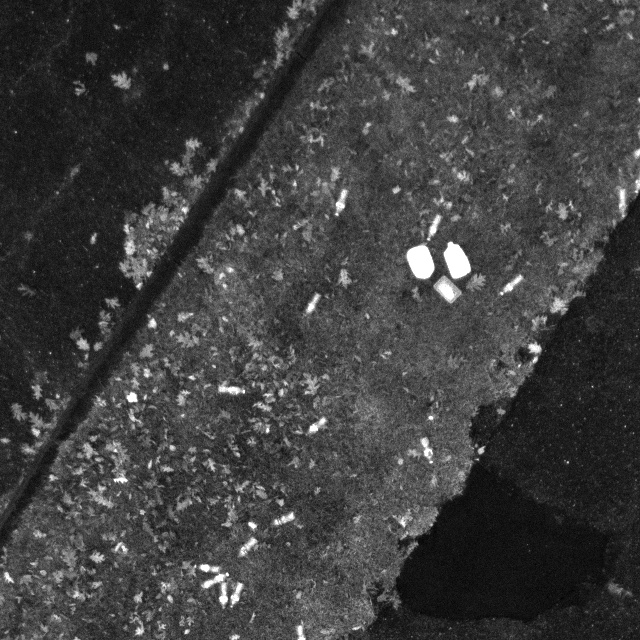bottle: (212, 577, 236, 614), (420, 213, 446, 244), (198, 569, 233, 591), (189, 561, 227, 580), (238, 532, 262, 560), (225, 581, 246, 612), (305, 416, 332, 439), (268, 508, 296, 529), (498, 278, 527, 298), (335, 189, 353, 219), (303, 293, 323, 317), (418, 439, 437, 464), (214, 383, 246, 396)
can: (439, 239, 476, 282), (402, 243, 435, 278)
container: (429, 273, 469, 307)
